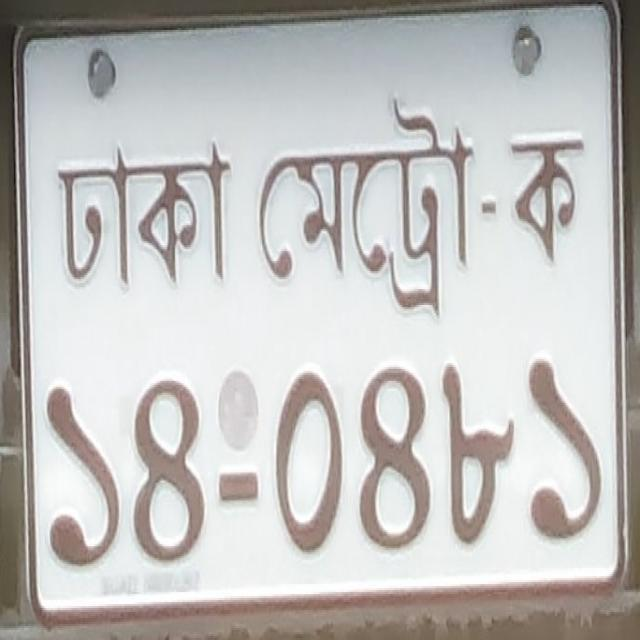cng: (509, 130, 584, 262)
numberplate: (7, 0, 634, 627)
